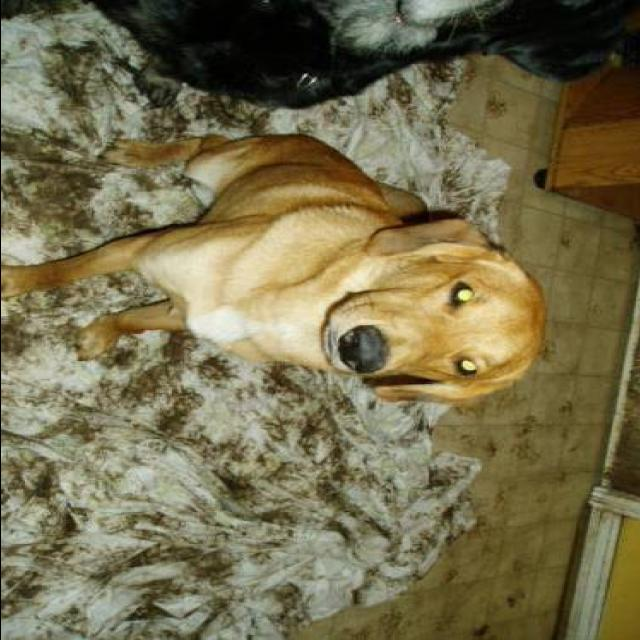dog: (0, 119, 552, 419)
